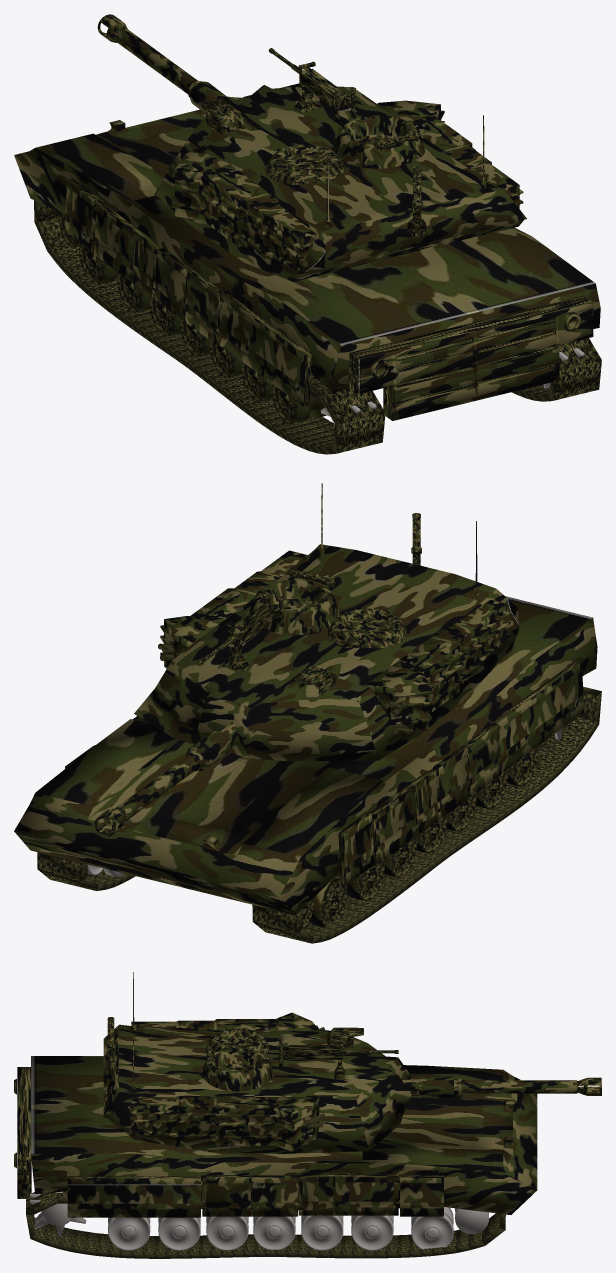
File: Tank Texture 1.FBX
3 views of the same model, one above another, from view 1: azimuth 30°, elevation 25°; view 2: azimuth 150°, elevation 25°; view 3: azimuth 270°, elevation 25° (orthographic). The views are drawn at different scales.
Visible parts, largest first — view 1: Wheel1_L.007, OpticalScope, MainGun, Grips; view 2: Wheel1_L.007, OpticalScope, MainGun, Grips; view 3: Wheel1_L.007, OpticalScope, MainGun, Grips.
Boxes of the visible parts, x1,y1,x2,y2 form: Wheel1_L.007: (14,83,601,454); OpticalScope: (154,85,526,281); MainGun: (97,14,226,113); Grips: (268,48,355,122); Wheel1_L.007: (14,596,601,943); OpticalScope: (134,483,519,761); MainGun: (94,722,239,837); Grips: (197,592,284,672); Wheel1_L.007: (14,1056,537,1258); OpticalScope: (103,972,411,1153); MainGun: (402,1076,601,1098); Grips: (278,1036,398,1079).
Bounding box in the file's own units: 269 × 237 × 608.
Materials: 1 (1 with a texture image).
